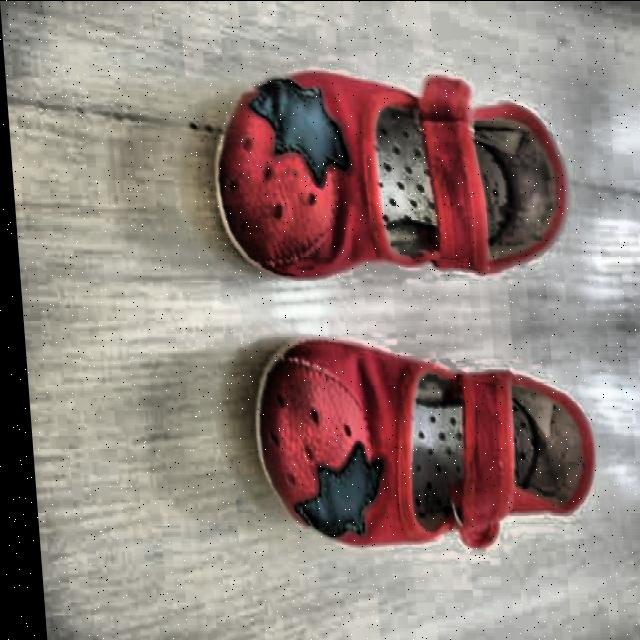shoes: (173, 37, 637, 569)
